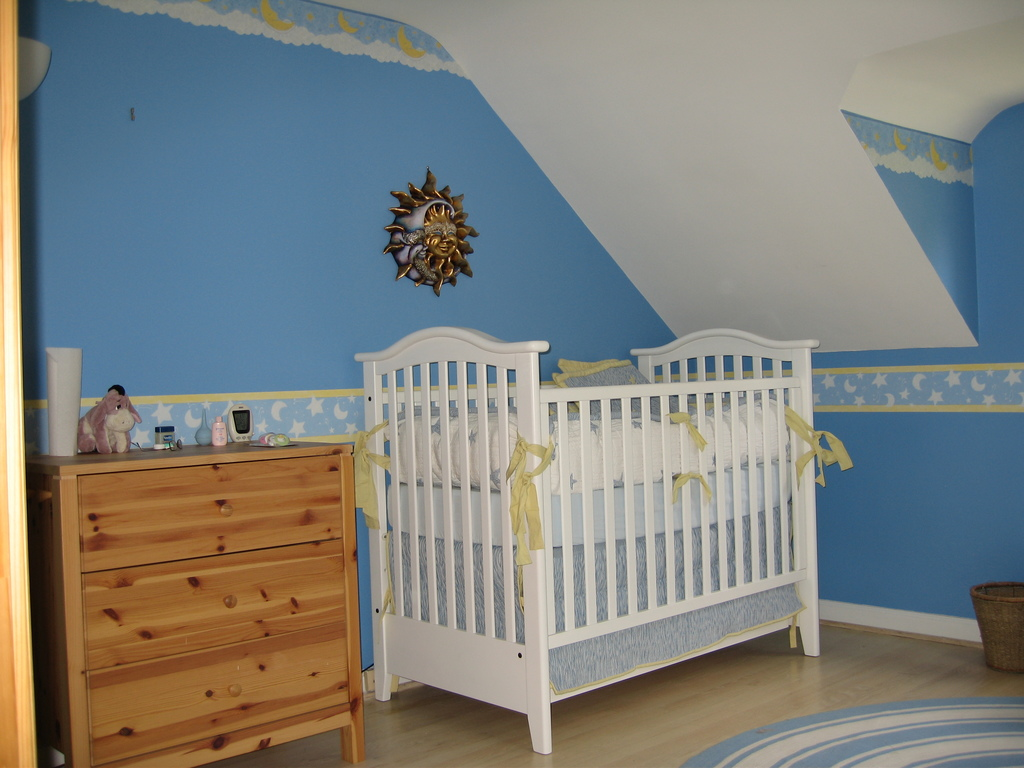cabinet door: (94, 557, 343, 639), (97, 644, 348, 722), (82, 474, 338, 539)
handle: (220, 670, 247, 705), (220, 585, 242, 615), (215, 499, 234, 527)
